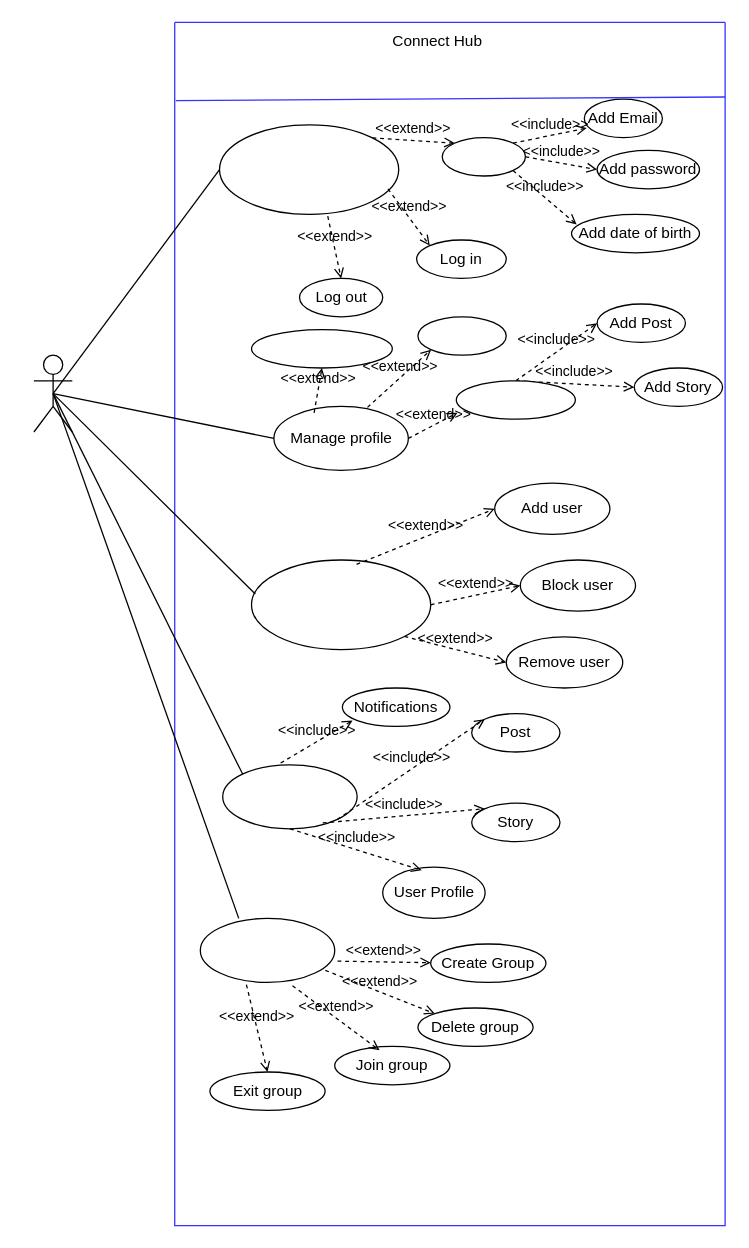
This 749x1248 diagram has some shape labels left out. Each missing label, with the centre of its shape:
"Account Management" belongs at (x=308, y=169).
"Add bio" belongs at (x=461, y=335).
"Change Password" belongs at (x=321, y=348).
"Manage Content" belongs at (x=515, y=399).
"Manage groups" belongs at (x=267, y=949).
"Manage Users" belongs at (x=340, y=604).
"Sign up" belongs at (x=483, y=156).
"Site User" belongs at (x=52, y=393).
"View content" belongs at (x=289, y=796).
